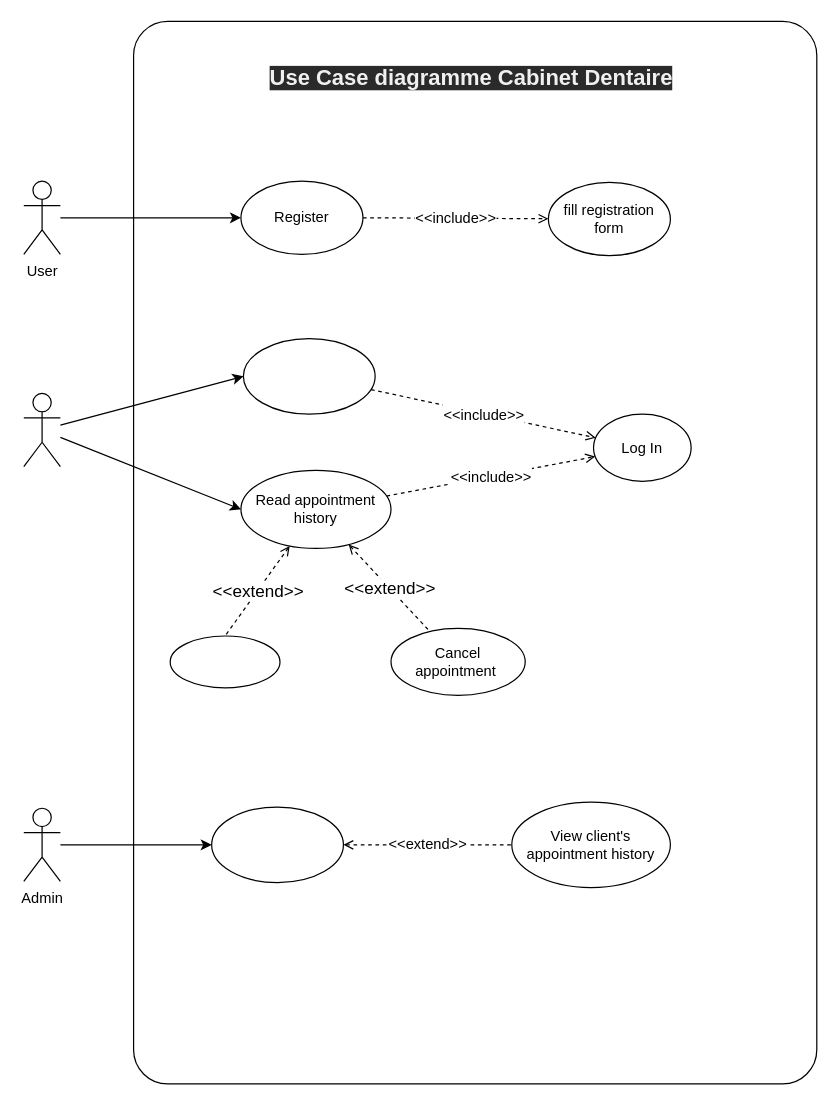
This 838x1105 diagram has some shape labels left out. Here are the shapes that lost their labels. From the top down, the box of each, then its label:
(242, 337, 375, 414): make an appointment
(23, 392, 60, 467): Client
(169, 635, 280, 688): Download receipt
(210, 806, 343, 883): View Clients
